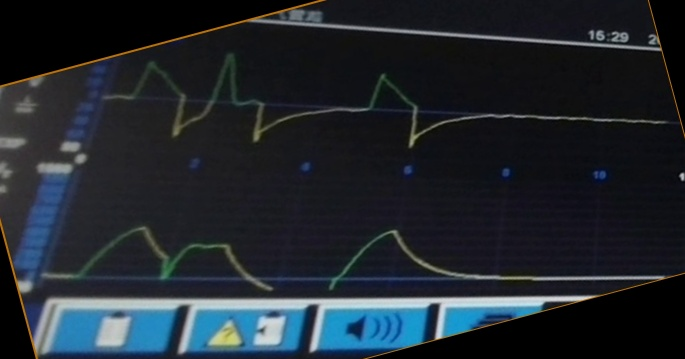Double_Triggering Flow: (107, 52, 508, 149)
Double_Triggering Volume: (67, 214, 499, 293)
